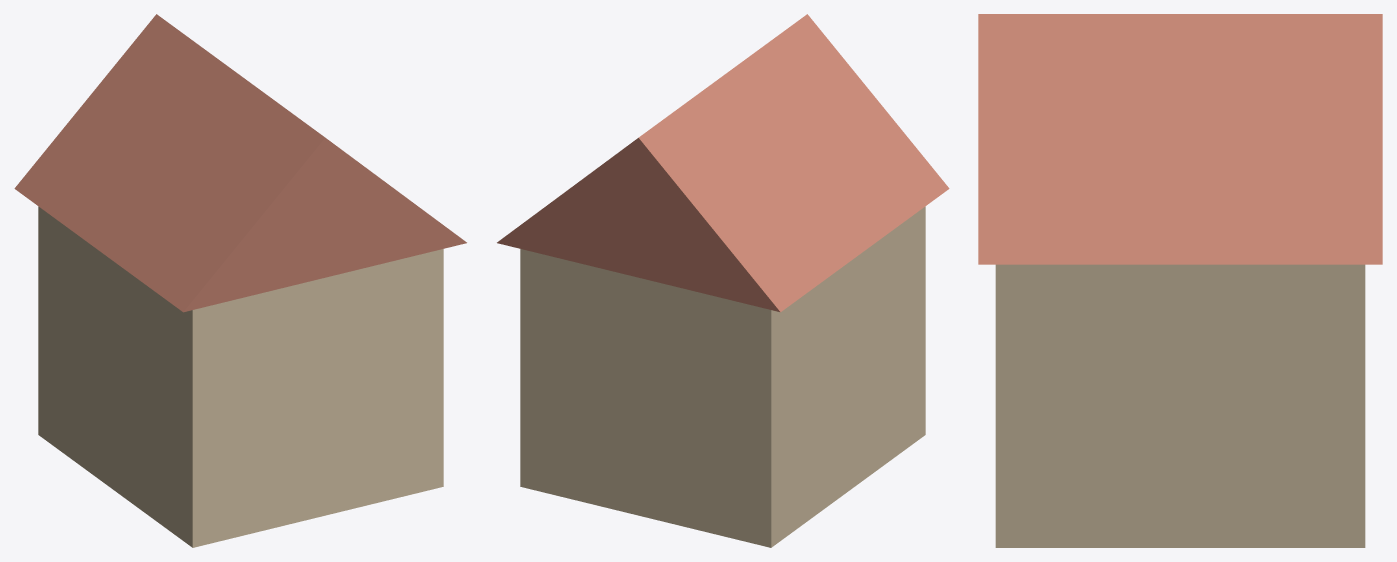
The model's file is Building_0.glb.
3 views of the same model, side by side, from view 1: azimuth 30°, elevation 25°; view 2: azimuth 150°, elevation 25°; view 3: azimuth 270°, elevation 25° (orthographic). The views are drawn at different scales.
Parts seen in each view (by area): view 1: Building_0; view 2: Building_0; view 3: Building_0.
Part boxes in pixels (<box>): Building_0: <box>14,14,466,547</box>; Building_0: <box>497,14,949,547</box>; Building_0: <box>978,14,1382,547</box>.
Bounding box in the file's own units: 3.4 × 4.4 × 3.5.
